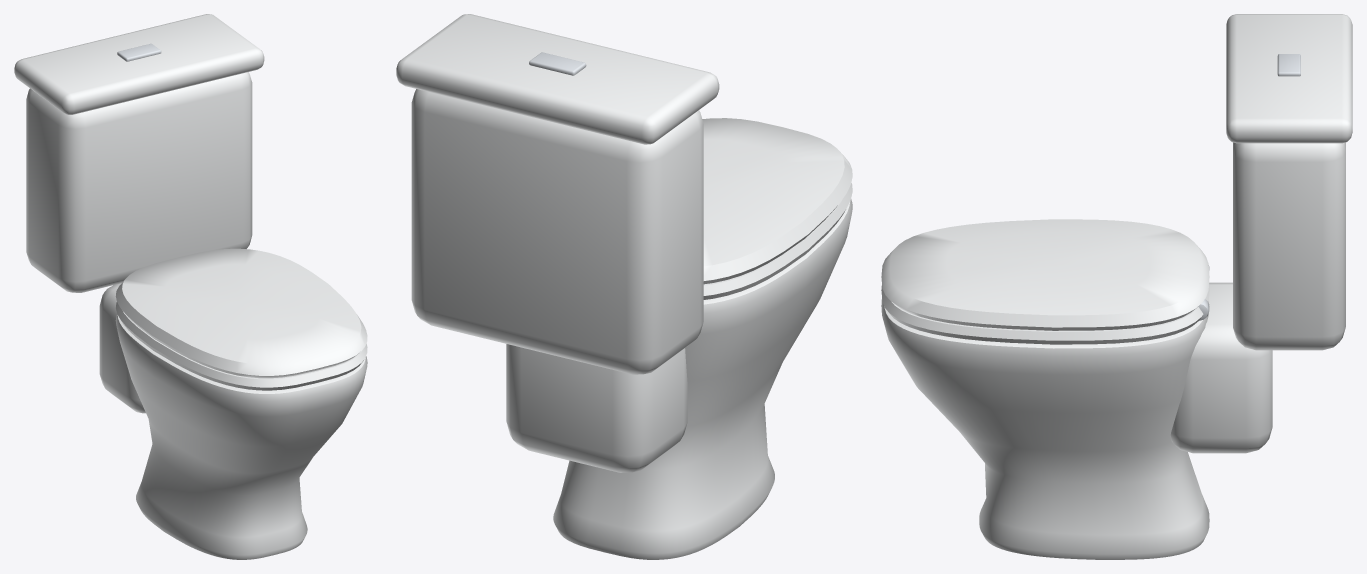
The model's file is vaso_caixa_quadrado_branco.glb.
3 renders of one model, left to right at view 1: azimuth 30°, elevation 25°; view 2: azimuth 150°, elevation 25°; view 3: azimuth 270°, elevation 25°, orthographic. The views are drawn at different scales.
Visible parts, largest first — view 1: vaso_caixa_quadrado_branco, tampa, assento; view 2: vaso_caixa_quadrado_branco, tampa, assento; view 3: vaso_caixa_quadrado_branco, tampa, assento.
Boxes of the visible parts, x1,y1,x2,y2 form: vaso_caixa_quadrado_branco: (14, 14, 367, 559); tampa: (115, 248, 367, 378); assento: (116, 302, 367, 390); vaso_caixa_quadrado_branco: (396, 14, 852, 559); tampa: (702, 118, 852, 284); assento: (703, 183, 852, 299); vaso_caixa_quadrado_branco: (881, 14, 1352, 559); tampa: (881, 219, 1209, 330); assento: (881, 284, 1209, 344).
Size of the model in its own units: 0.4 by 0.771 by 0.7085.
1 material, 1 textured.
